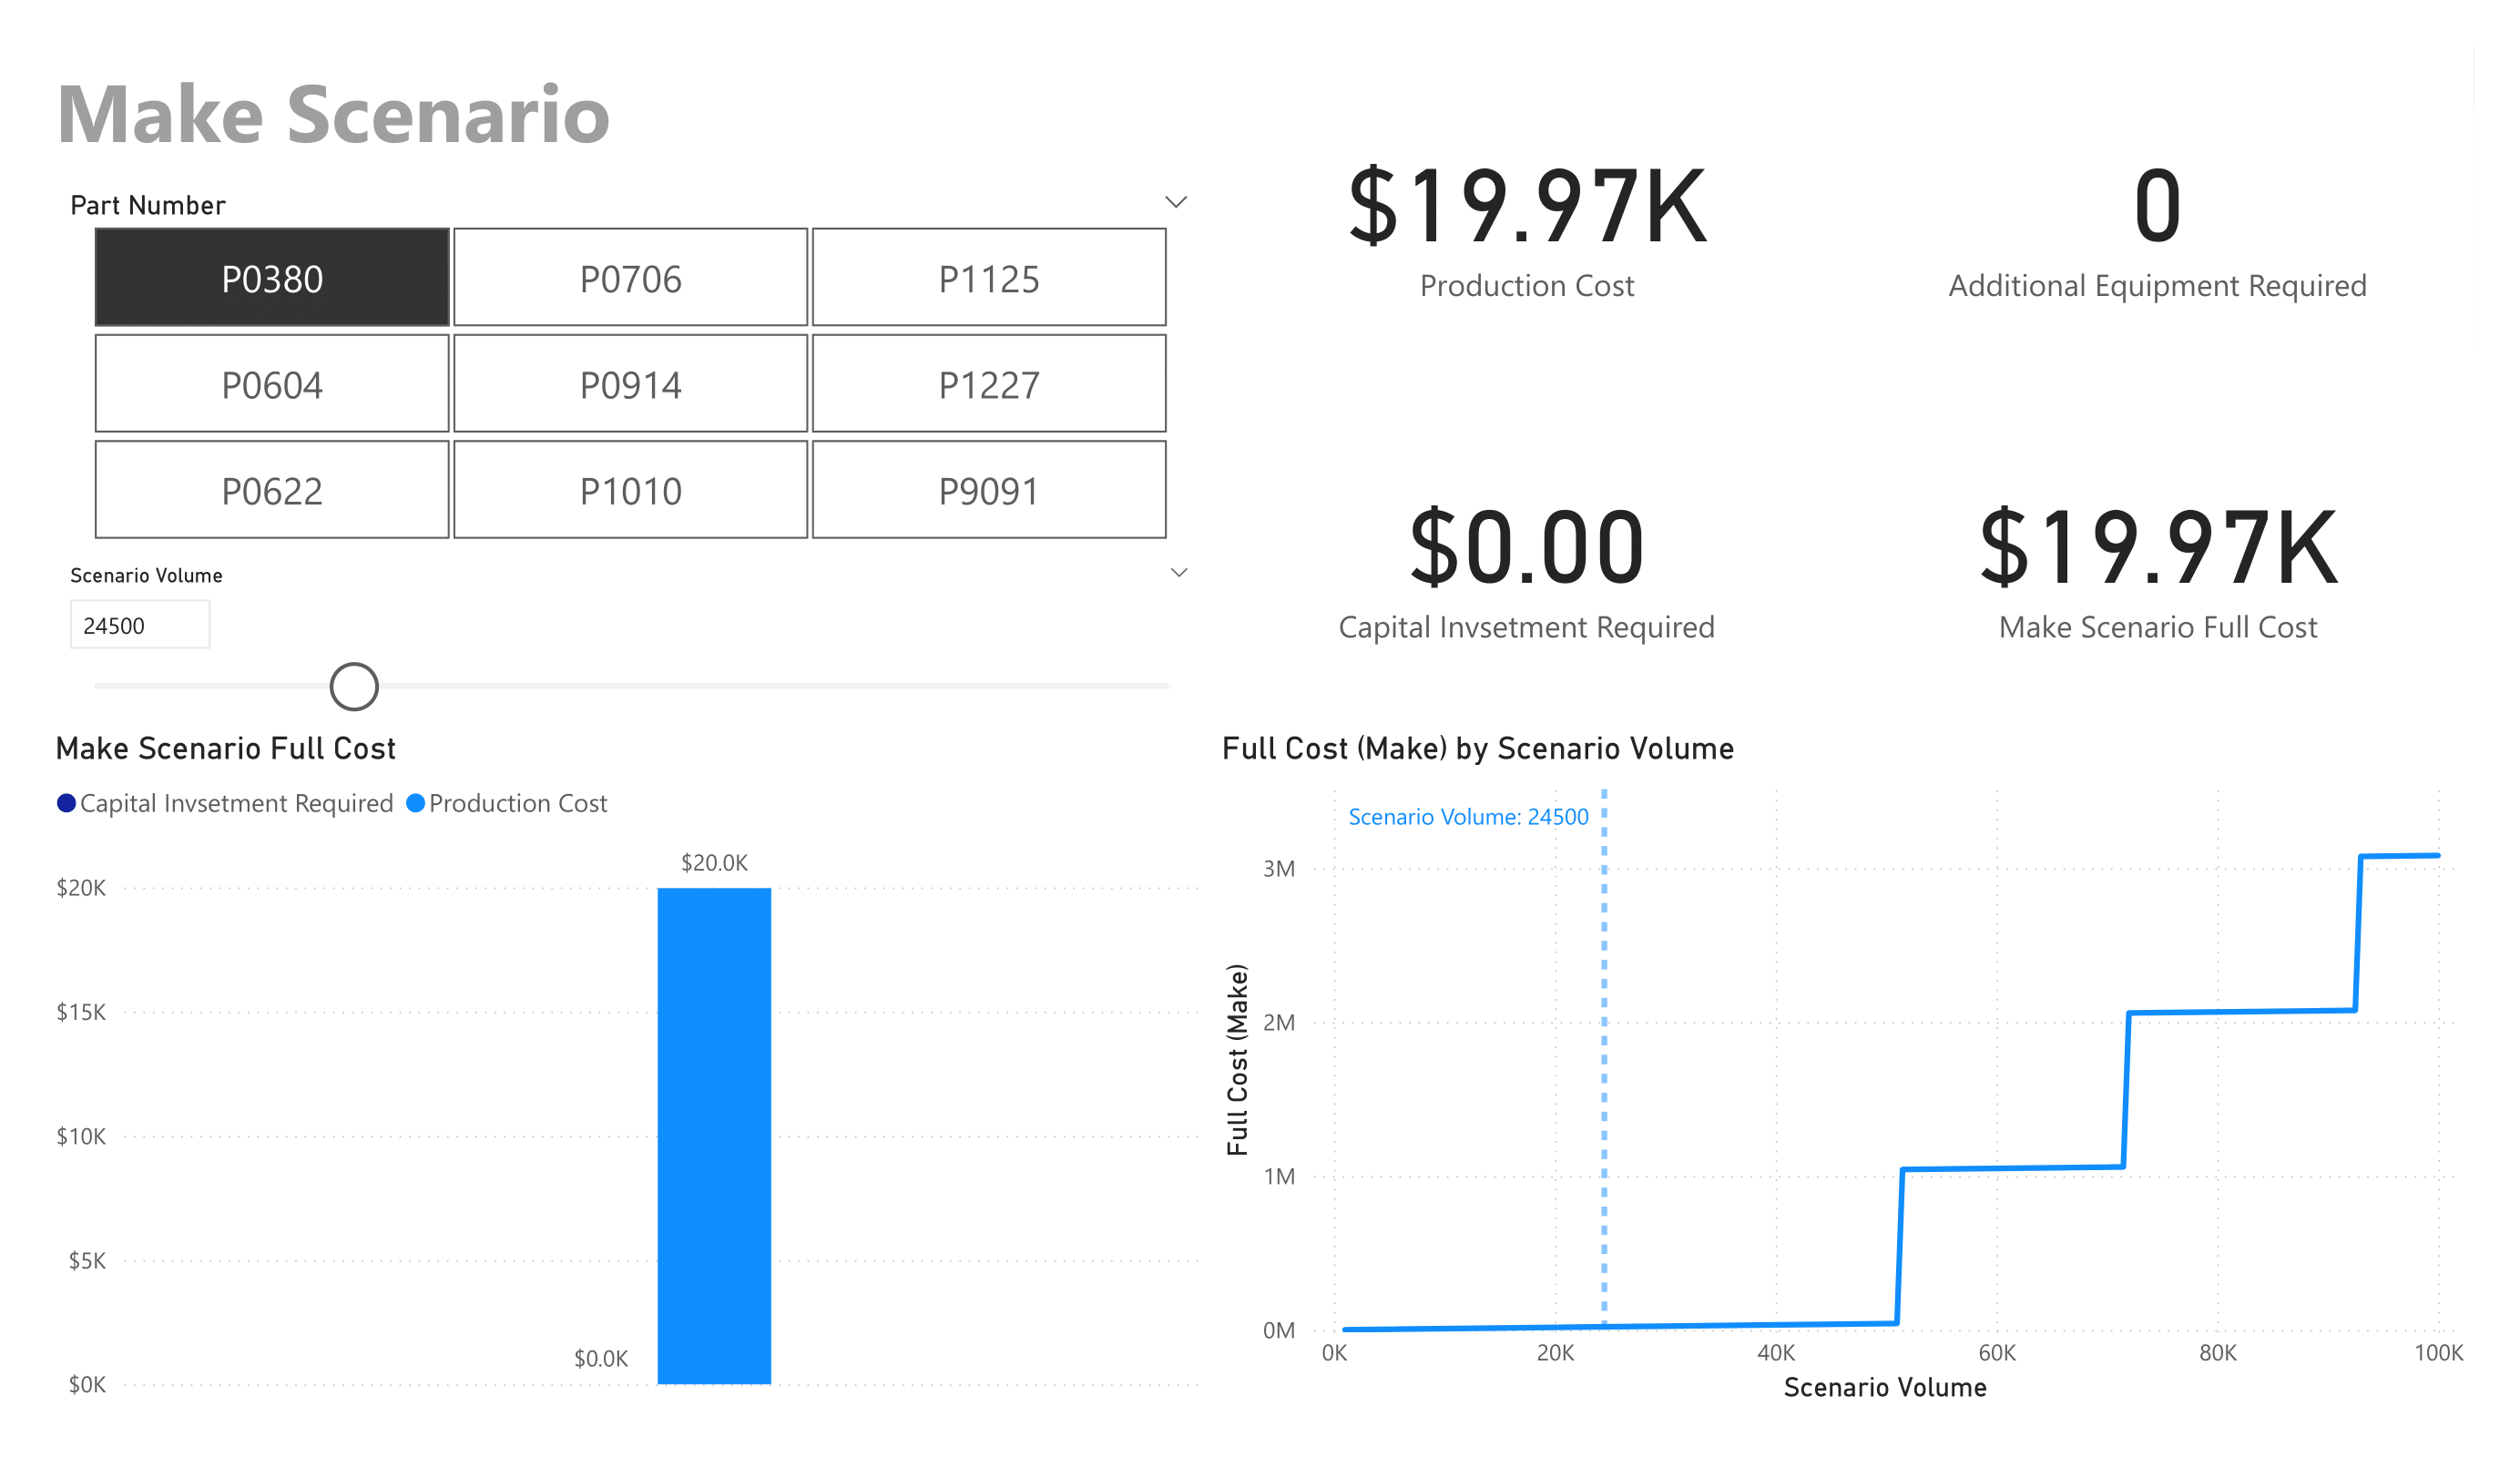

Layout of this report page (visuals, bound fields, positions):
{"tool":"powerbi","page":{"name":"Make Scenario","canvas":[1280,720],"ordinal":2},"visuals":[{"type":"textbox","box":[0,0,359.7,70.7],"z":0},{"type":"slicer","fields":{"Values":["Product_Dimension.Part_Number"]},"box":[0,70.7,615,196.7],"z":1000},{"type":"slicer","fields":{"Values":["Scenario Volume.Scenario Volume"]},"box":[0,267.8,615.3,92],"z":2000},{"type":"lineChart","title":"Full Cost (Make) by Scenario Volume","fields":{"Y":["Scenario Volumes (All).Full_Cost_Make_All"],"Category":["Scenario Volumes (All).Scenario Volume"]},"box":[614.9,359.8,665.1,360.2],"z":3000},{"type":"card","fields":{"Values":["Internal_Mfg_Resource_Estimates.Production Cost"]},"box":[615,0,332.1,175.1],"z":4000},{"type":"card","fields":{"Values":["Internal_Mfg_Resource_Estimates.Capital Invsetment Required (Make)"]},"box":[615,175.1,332.1,184.6],"z":5000},{"type":"card","fields":{"Values":["Internal_Mfg_Resource_Estimates.Make Scenario Full Cost"]},"box":[947.1,175.1,332.9,184.6],"z":6000},{"type":"card","fields":{"Values":["Internal_Mfg_Resource_Estimates.Additional Equipment Required"]},"box":[947,0,333,175],"z":7000},{"type":"clusteredColumnChart","title":"Make Scenario Full Cost","fields":{"Y":["Internal_Mfg_Resource_Estimates.Capital Invsetment Required (Make)","Internal_Mfg_Resource_Estimates.Production Cost"]},"box":[0,359.7,615,360.5],"z":8000}]}

Visuals, with their boxes in screenshot pixels (x1, y1, x2, y2):
textbox: locate(46, 46, 728, 179)
slicer - Product_Dimension.Part_Number: locate(46, 179, 1212, 553)
slicer - Scenario Volume.Scenario Volume: locate(46, 554, 1213, 728)
"Full Cost (Make) by Scenario Volume" lineChart: locate(1212, 728, 2474, 1411)
card - Internal_Mfg_Resource_Estimates.Production Cost: locate(1212, 46, 1842, 378)
card - Internal_Mfg_Resource_Estimates.Capital Invsetment Required (Make): locate(1212, 378, 1842, 728)
card - Internal_Mfg_Resource_Estimates.Make Scenario Full Cost: locate(1842, 378, 2474, 728)
card - Internal_Mfg_Resource_Estimates.Additional Equipment Required: locate(1842, 46, 2474, 378)
"Make Scenario Full Cost" clusteredColumnChart: locate(46, 728, 1212, 1411)
